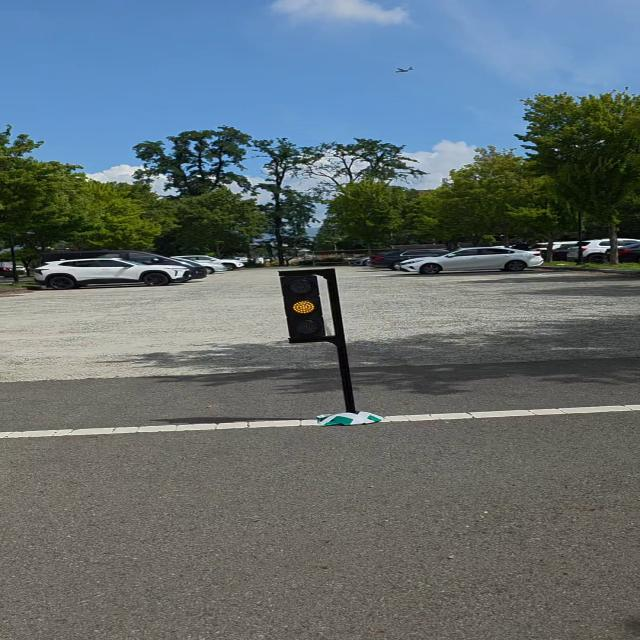yellow: (278, 272, 329, 344)
